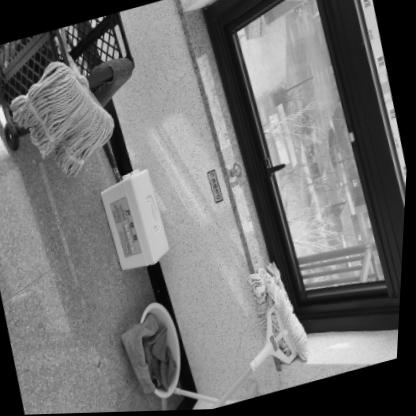DDL: (95, 164, 179, 276)
